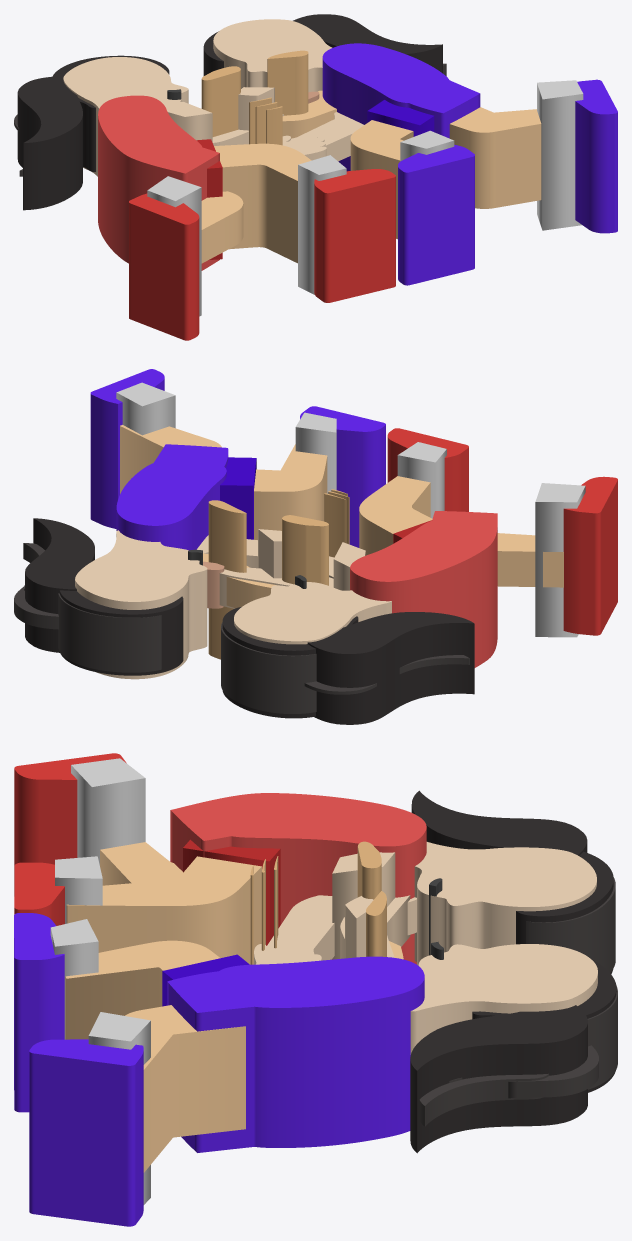
File: emoji_u1f93c_1f3fb_200d_2640.glb
3 views of the same model, one above another, from view 1: azimuth 30°, elevation 25°; view 2: azimuth 150°, elevation 25°; view 3: azimuth 270°, elevation 25° (orthographic). The views are drawn at different scales.
Visible parts, largest first — view 1: emoji_u1f93c_1f3fb_200d_2640; view 2: emoji_u1f93c_1f3fb_200d_2640; view 3: emoji_u1f93c_1f3fb_200d_2640.
Part boxes in pixels (x1,y1,x2,y2): emoji_u1f93c_1f3fb_200d_2640: (14,14,617,340); emoji_u1f93c_1f3fb_200d_2640: (14,369,617,724); emoji_u1f93c_1f3fb_200d_2640: (14,753,617,1226).
Size of the model in its own units: 0.0327 by 0.0096 by 0.0266.
